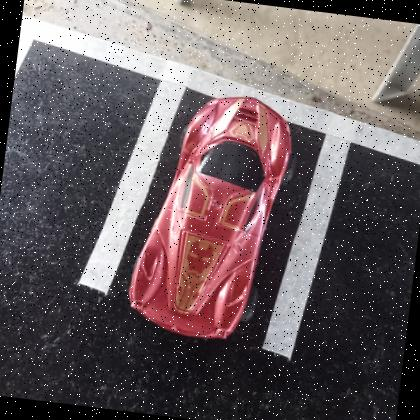Car: (129, 97, 293, 340)
